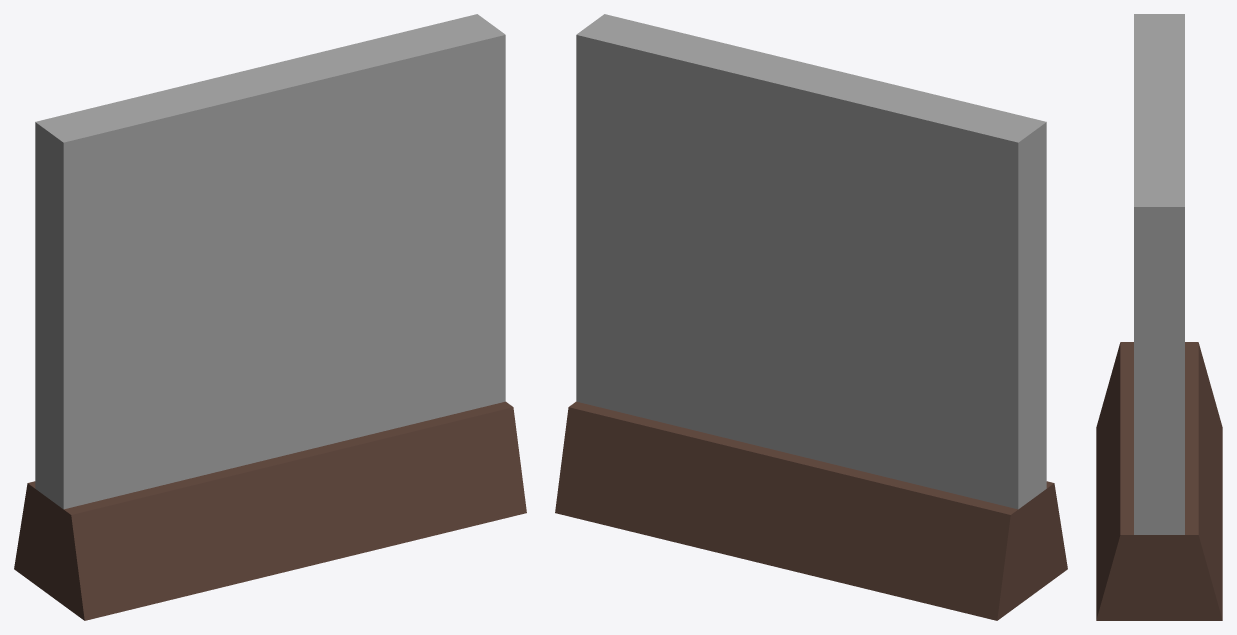
File: Wood Wall Bottom.fbx
3 renders of one model, left to right at view 1: azimuth 30°, elevation 25°; view 2: azimuth 150°, elevation 25°; view 3: azimuth 270°, elevation 25°, orthographic. The views are drawn at different scales.
Parts seen in each view (by area): view 1: Wood_Wall_Bottom; view 2: Wood_Wall_Bottom; view 3: Wood_Wall_Bottom.
Part boxes in pixels (x1=…): Wood_Wall_Bottom: x1=14, y1=14, x2=526, y2=620; Wood_Wall_Bottom: x1=555, y1=14, x2=1067, y2=620; Wood_Wall_Bottom: x1=1096, y1=14, x2=1222, y2=620.
Size of the model in its own units: 1 by 1 by 0.2771.
